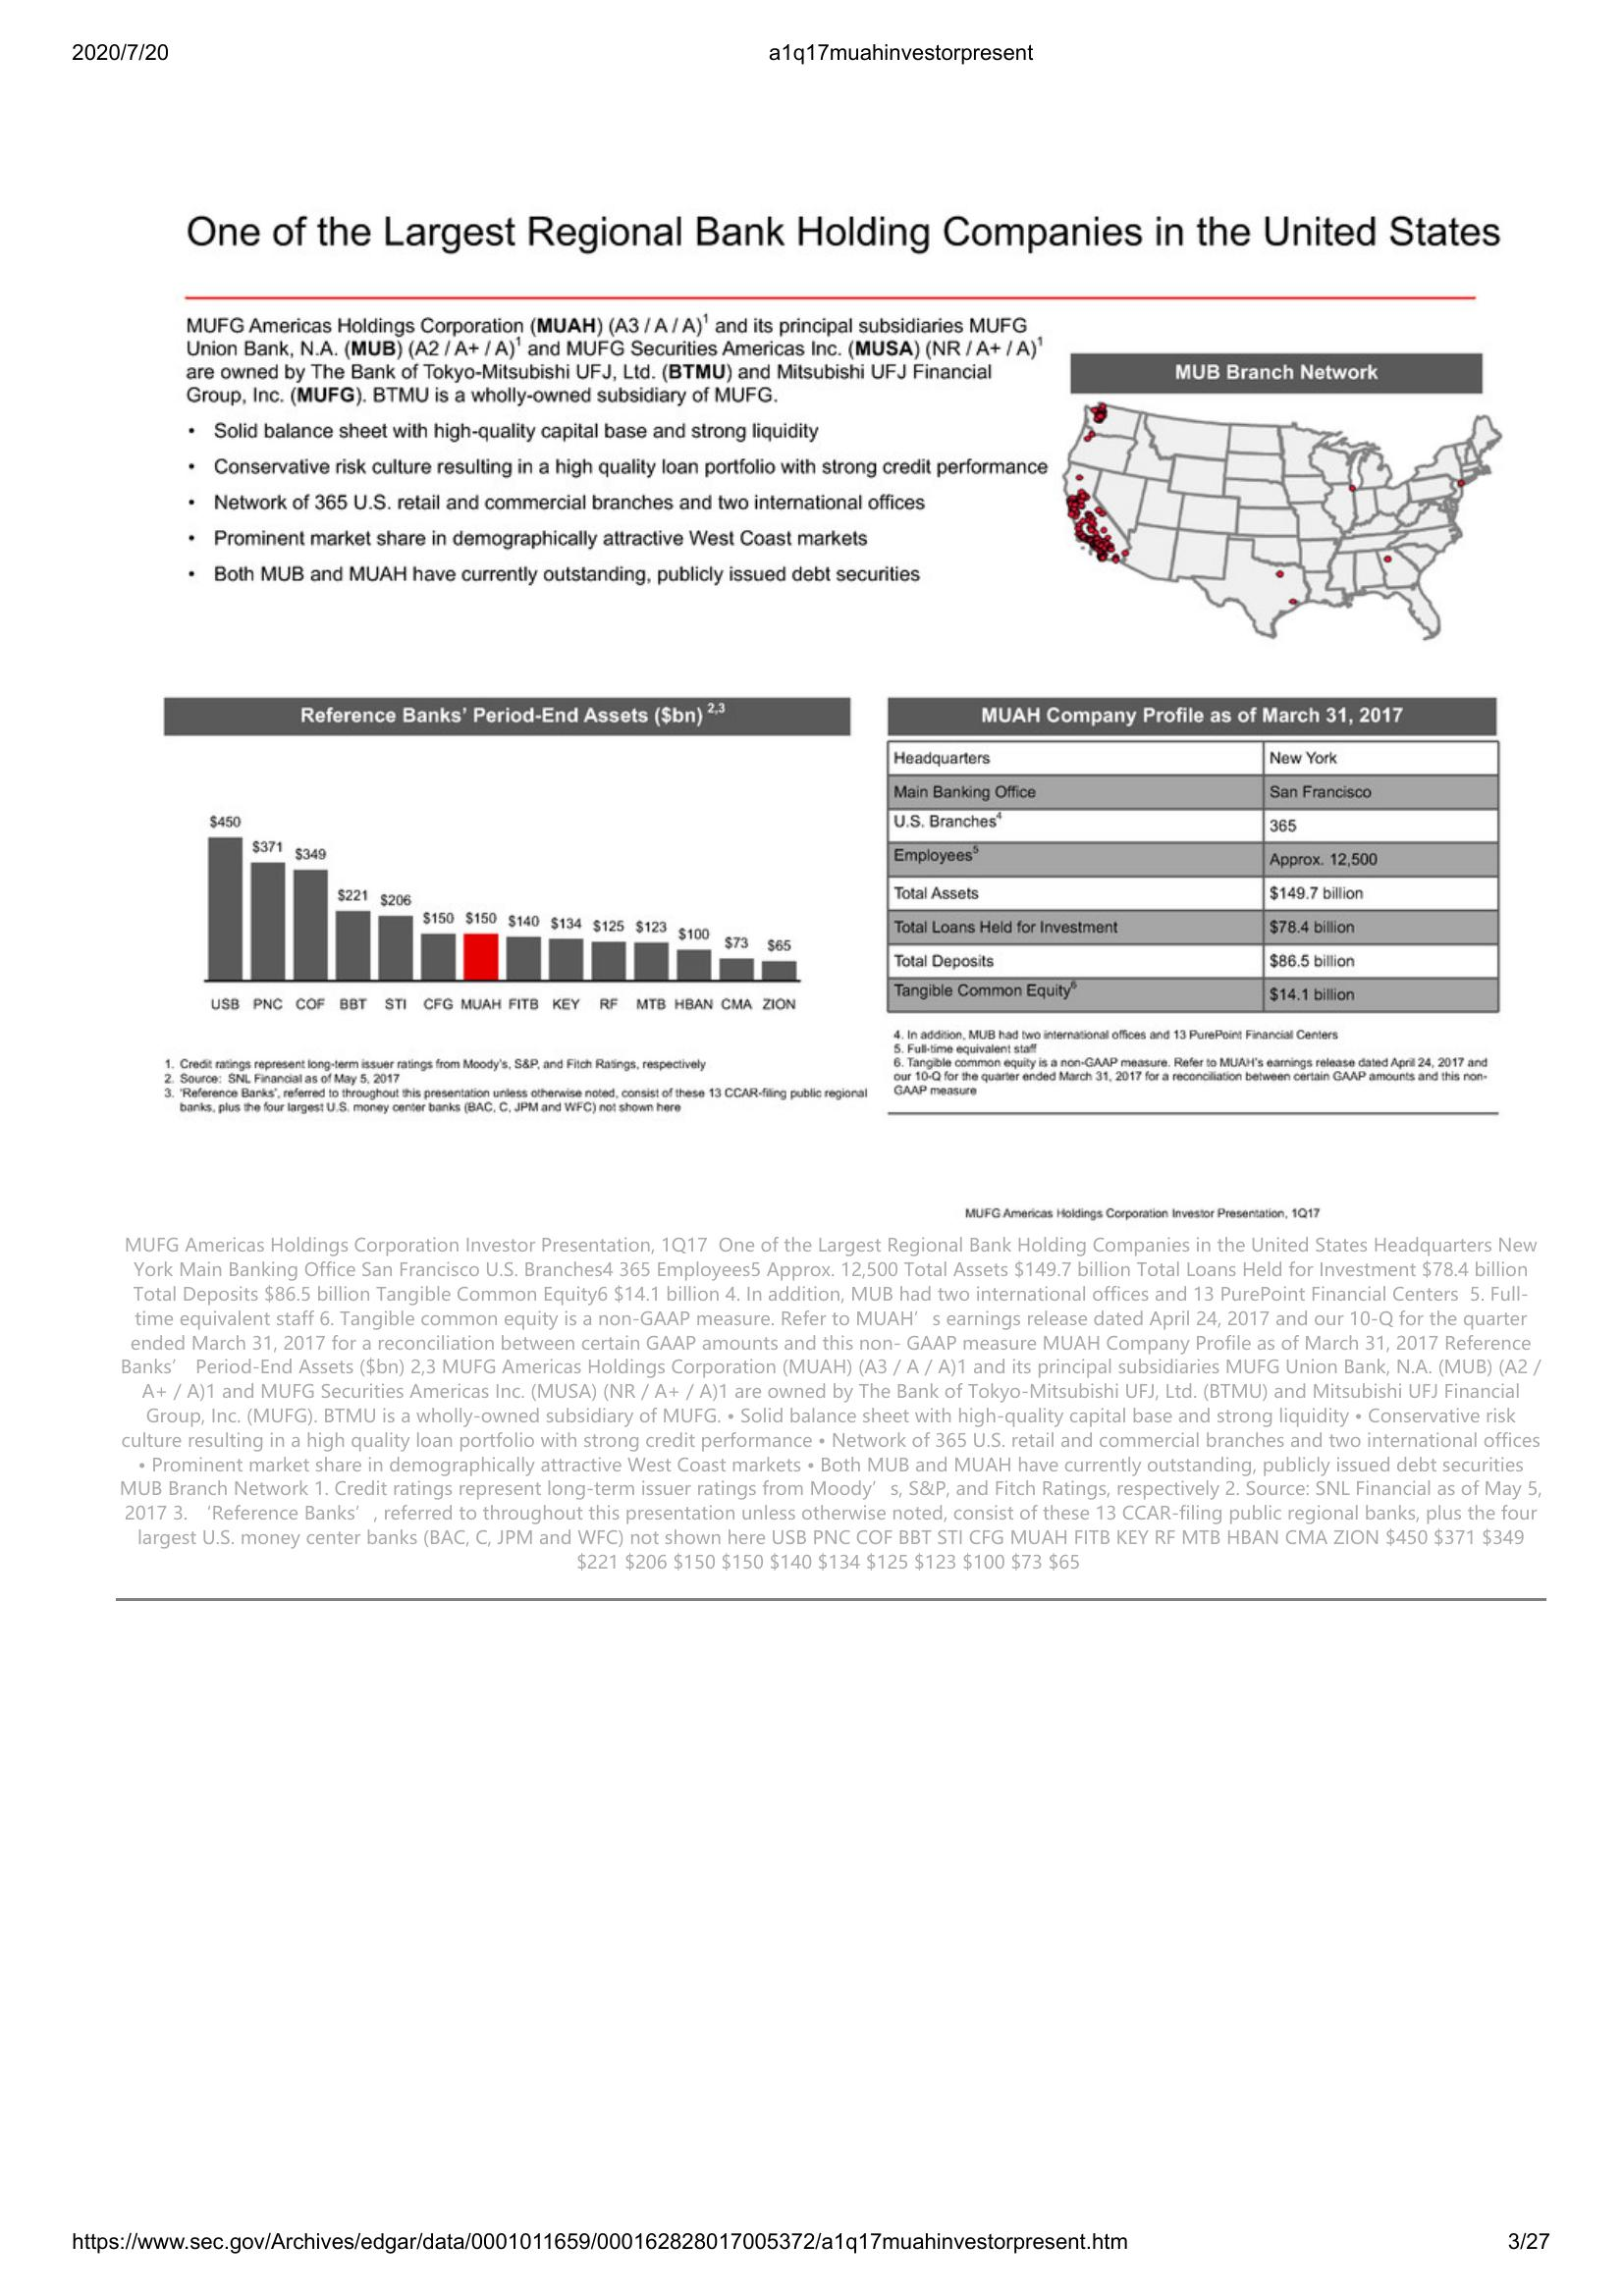table: (880, 693, 1509, 1016)
